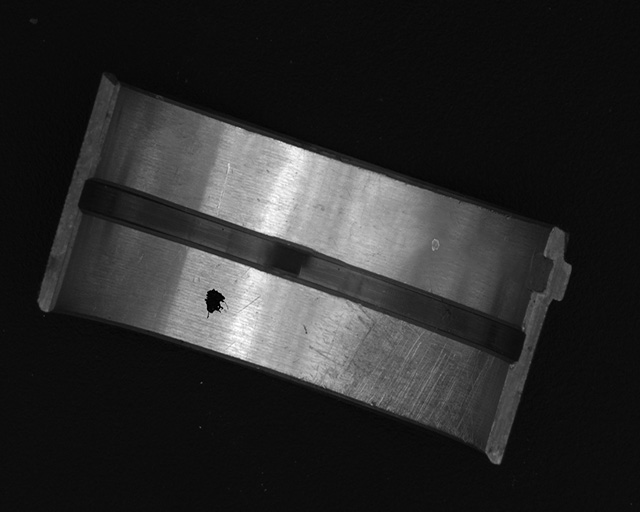blot: (203, 288, 228, 319)
bruise: (430, 238, 440, 254)
gap: (76, 178, 522, 362)
nick: (216, 163, 231, 217)
scratch: (304, 297, 476, 436)
